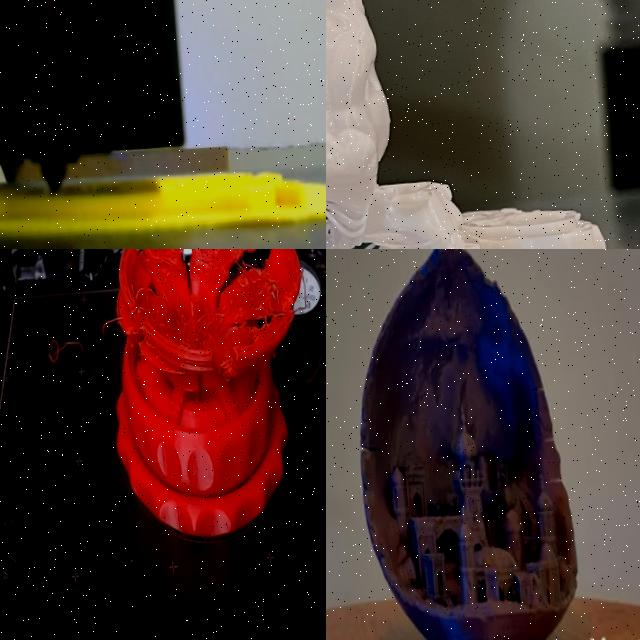spaghetti: (115, 249, 282, 355), (45, 338, 85, 380), (307, 352, 326, 384)
